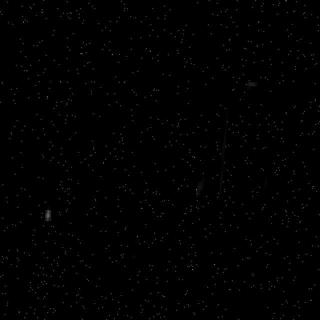N00: (59, 56, 113, 214), (218, 82, 270, 238)
N01: (147, 68, 172, 222)
N05: (260, 84, 314, 236)
N07: (17, 46, 71, 209)
N08: (174, 73, 226, 224)
P21: (106, 228, 200, 315)
